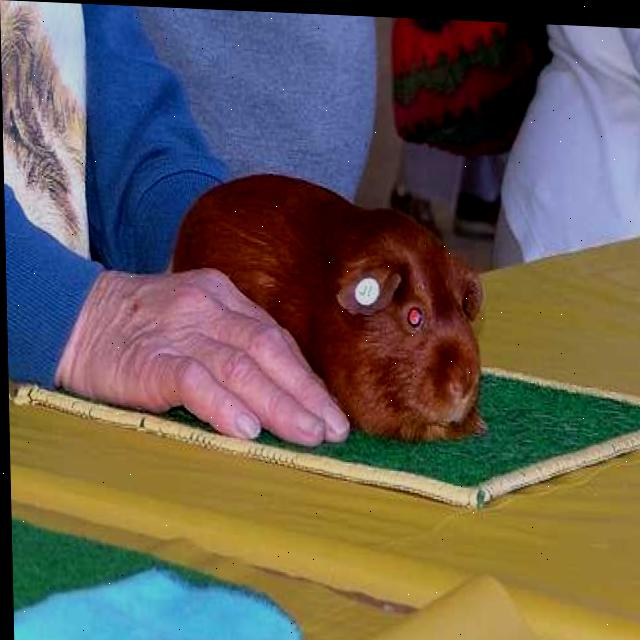guinea pig: (169, 168, 479, 448)
